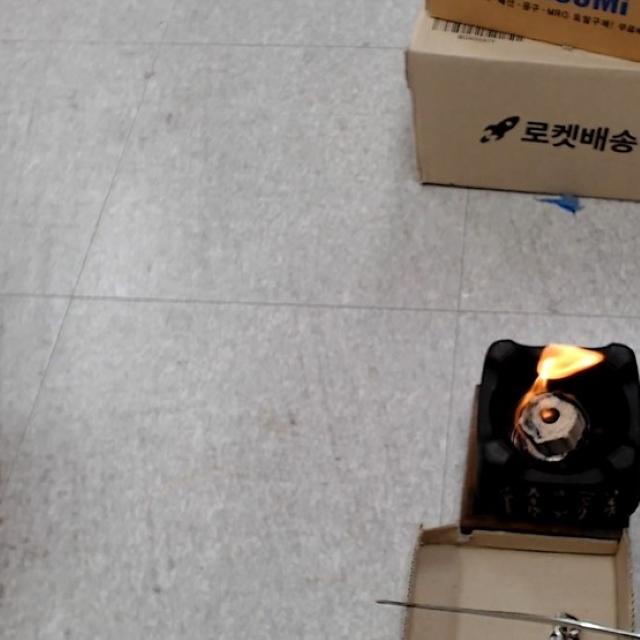Fire: (507, 330, 605, 434)
